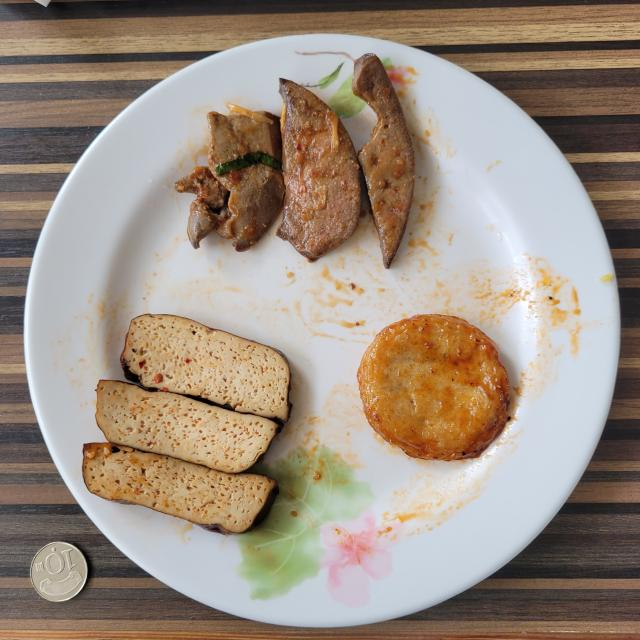coin: (30, 541, 88, 601)
firm tofu: (82, 314, 290, 534)
fish cake: (358, 315, 510, 460)
pig liver: (175, 54, 414, 268)
